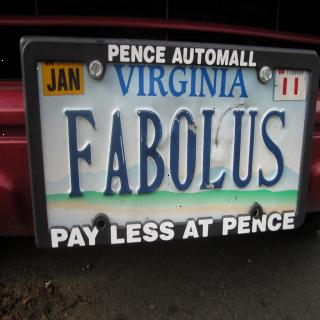license: (20, 34, 319, 251)
